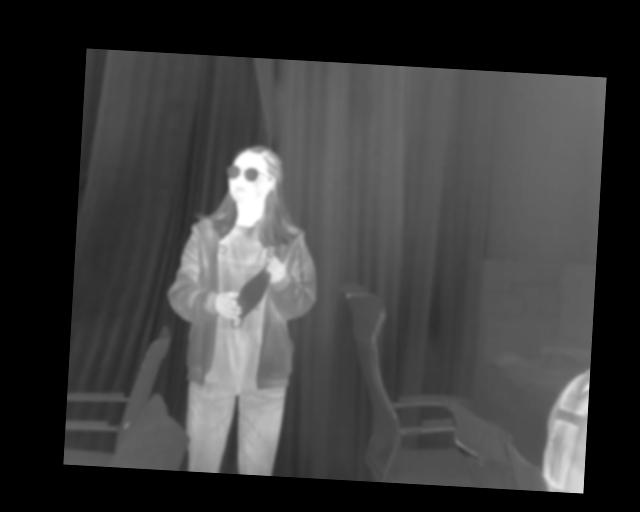face: (224, 142, 283, 205)
